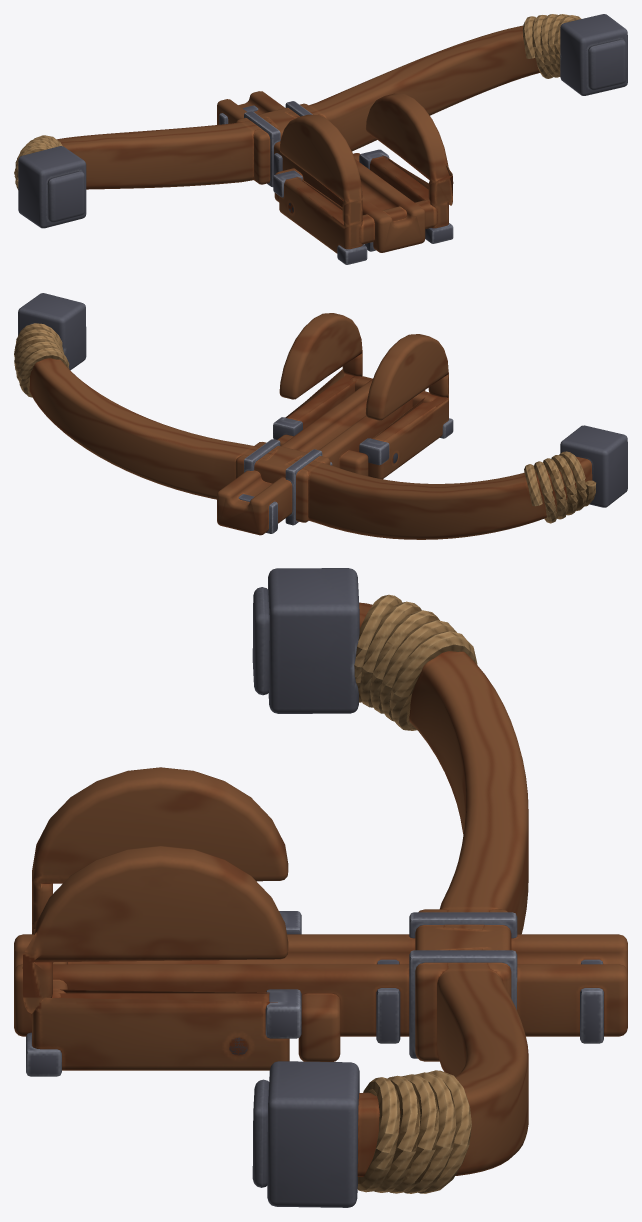
File: ballista.glb
3 views of the same model, one above another, from view 1: azimuth 30°, elevation 25°; view 2: azimuth 150°, elevation 25°; view 3: azimuth 270°, elevation 25° (orthographic). The views are drawn at different scales.
Parts seen in each view (by area): view 1: ballista; view 2: ballista; view 3: ballista.
Part boxes in pixels (box(x1,y1,x2,y2)): ballista: box(14, 14, 627, 264); ballista: box(14, 293, 627, 539); ballista: box(14, 568, 627, 1207).
Size of the model in its own units: 4.24 by 0.83 by 2.05.
Materials: 3 (3 with a texture image).
